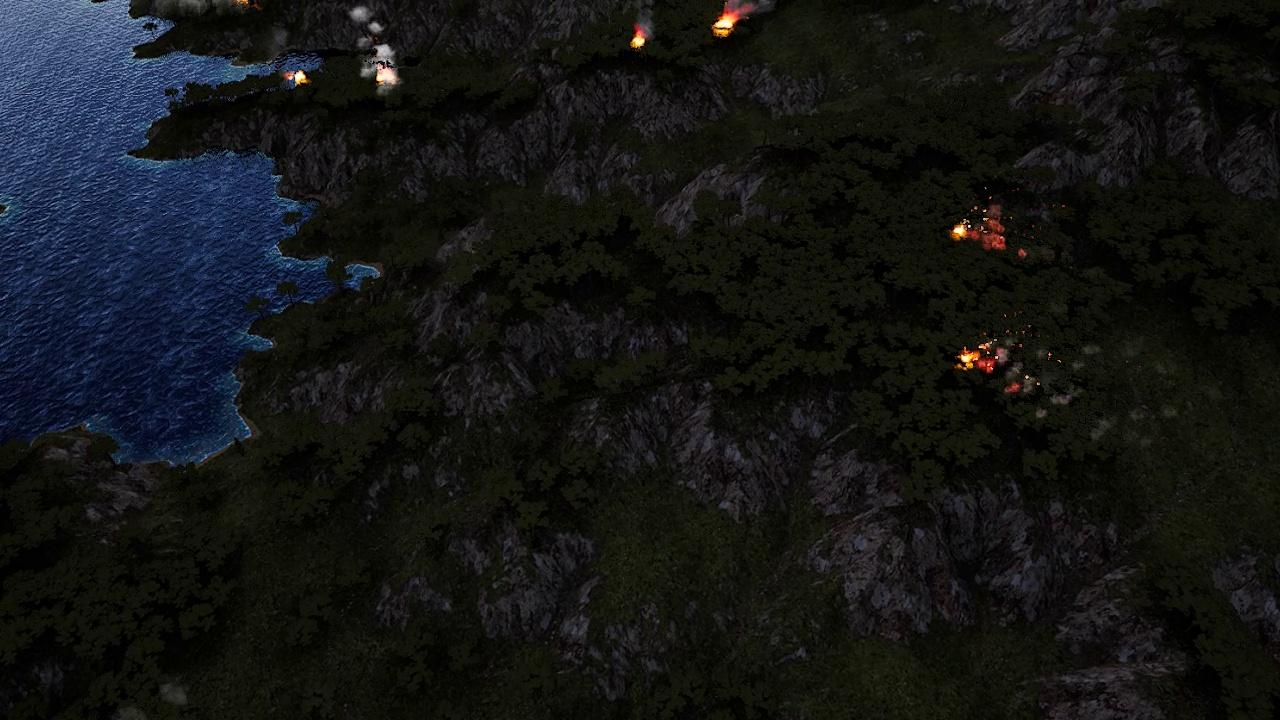fire: (951, 207, 1009, 258), (956, 339, 1008, 375), (708, 7, 738, 39), (378, 64, 398, 88), (293, 73, 315, 87), (632, 33, 648, 50)
smoke: (344, 0, 398, 90)
